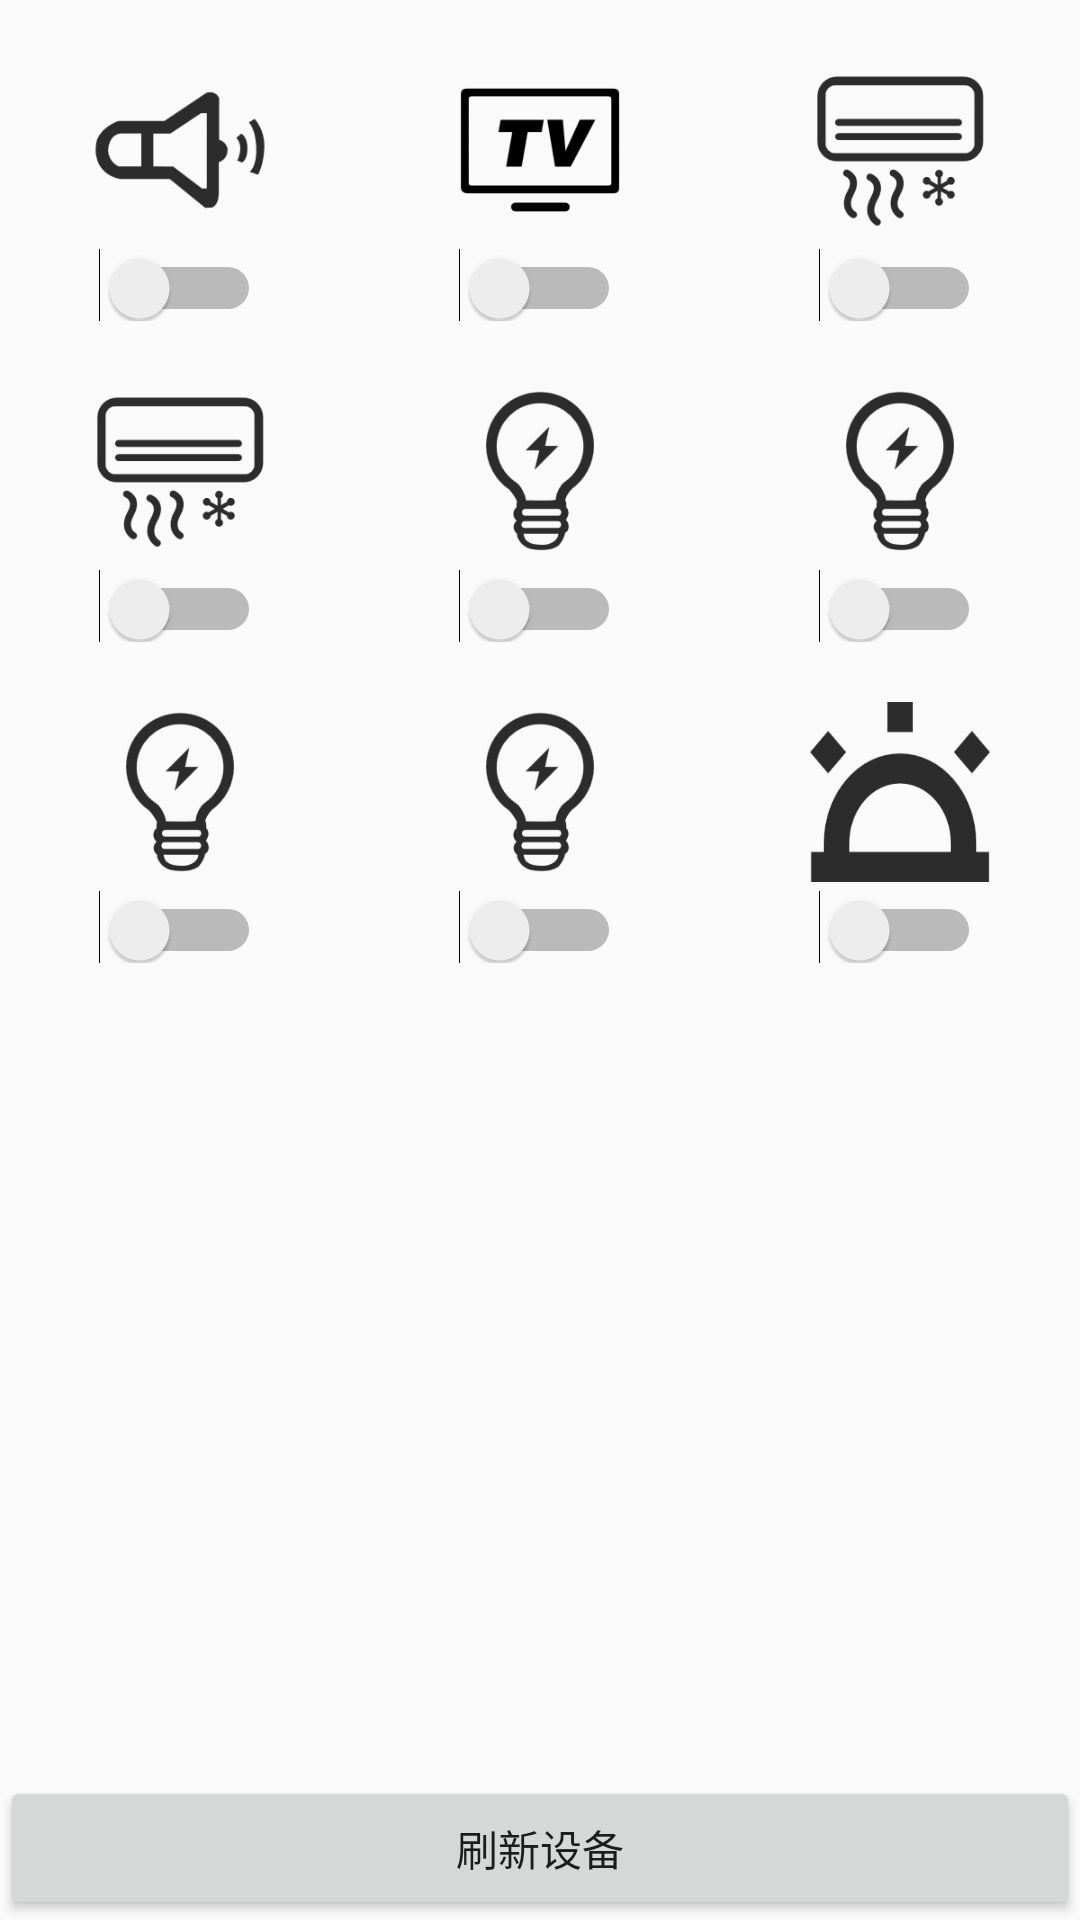

Icons on this 1080 × 1920 Android screen, each with its box as (x1, y1, x2, y2):
air condition: (817, 76, 984, 226), (97, 397, 264, 547)
alertor: (810, 702, 990, 882)
sound equipment: (95, 92, 265, 208)
